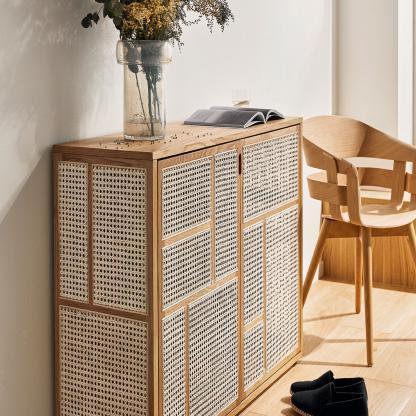chair: (302, 105, 416, 369)
table: (52, 112, 303, 416)
